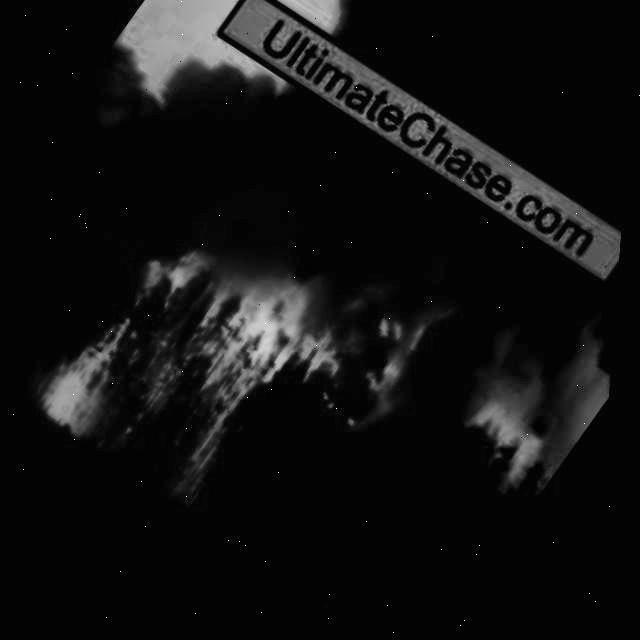Fire: (31, 195, 348, 518), (325, 300, 455, 442)
Smoke: (53, 0, 640, 449), (290, 0, 640, 286)
